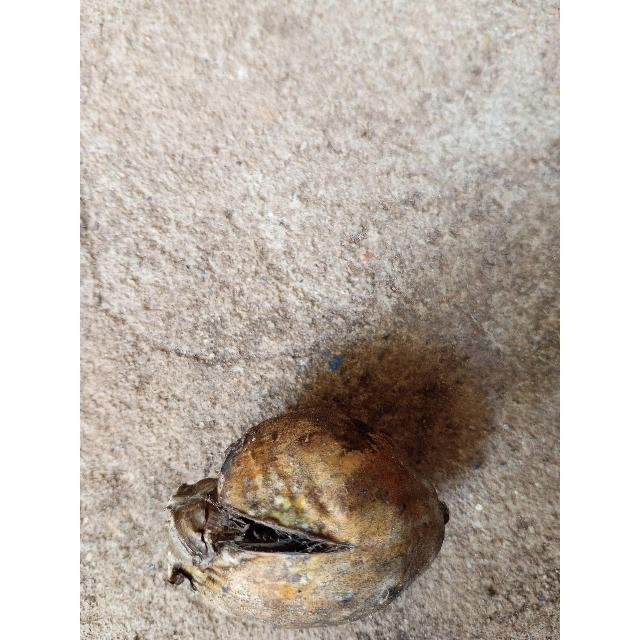damaged: (168, 408, 449, 626)
